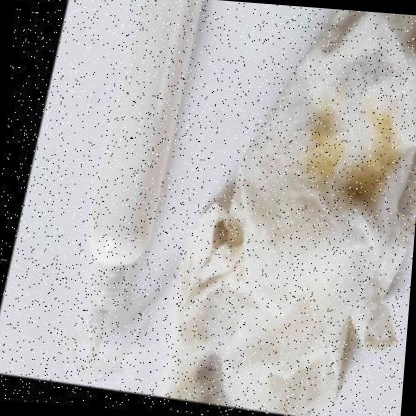coffee: (367, 113, 399, 160), (307, 122, 337, 170), (349, 164, 380, 202)
